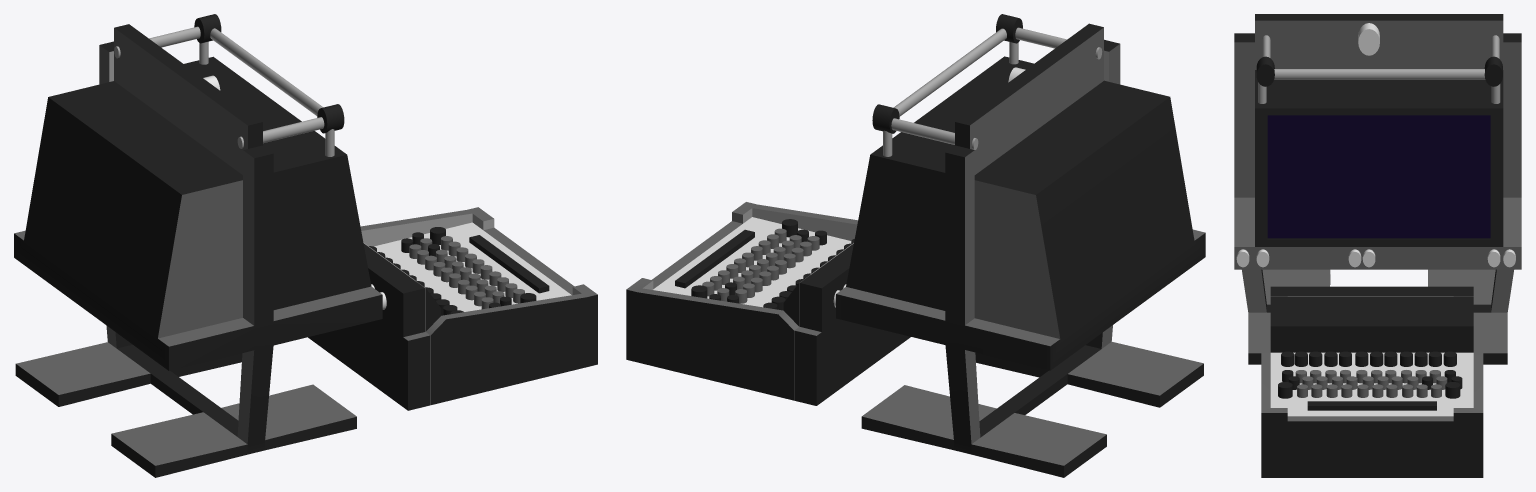
File: type machine.fbx
3 renders of one model, left to right at view 1: azimuth 30°, elevation 25°; view 2: azimuth 150°, elevation 25°; view 3: azimuth 270°, elevation 25°, orthographic. The views are drawn at different scales.
Visible parts, largest first — view 1: pCylinder64, pCylinder49; view 2: pCylinder64, pCylinder49; view 3: pCylinder64, pCylinder49.
Part boxes in pixels (left/top/right/bottom): pCylinder64: left=14, top=14, right=386, bottom=477; pCylinder49: left=308, top=207, right=597, bottom=410; pCylinder64: left=833, top=14, right=1205, bottom=477; pCylinder49: left=626, top=202, right=910, bottom=405; pCylinder64: left=1234, top=14, right=1521, bottom=364; pCylinder49: left=1261, top=286, right=1483, bottom=477.
Size of the model in its own units: 8.42 by 5.87 by 5.03.
